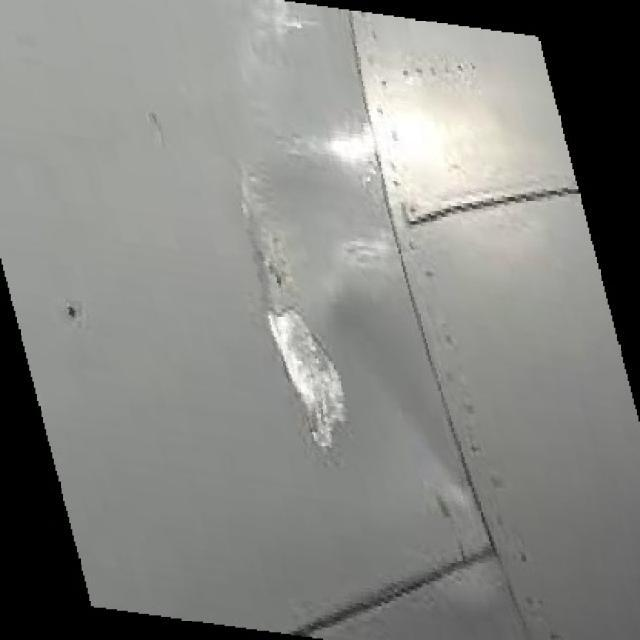dent: (340, 290, 468, 495), (235, 140, 380, 306), (277, 311, 351, 477)
